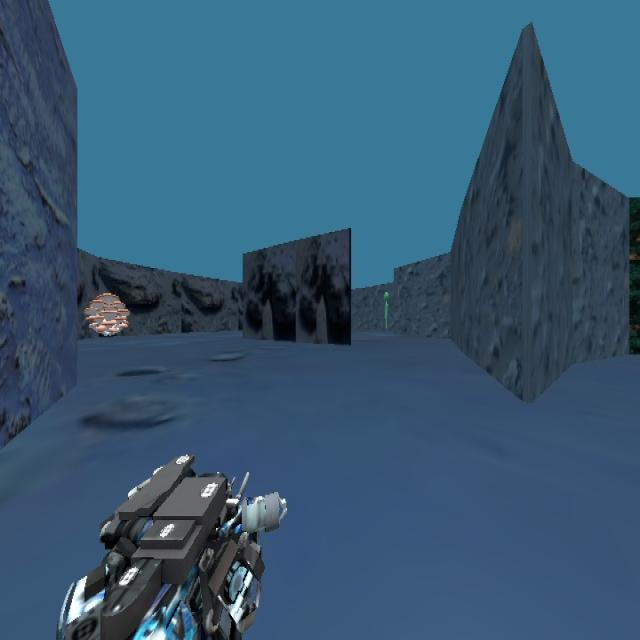Alien: (382, 290, 390, 330)
Mushroom: (84, 291, 130, 337)
